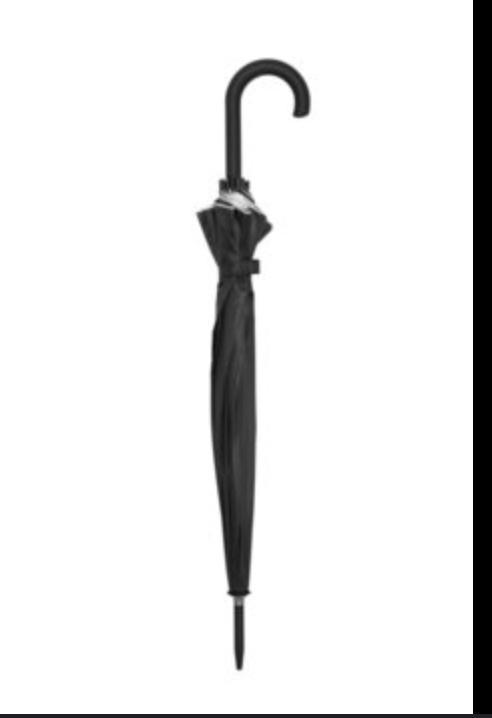Umbrella: (192, 54, 315, 676)
